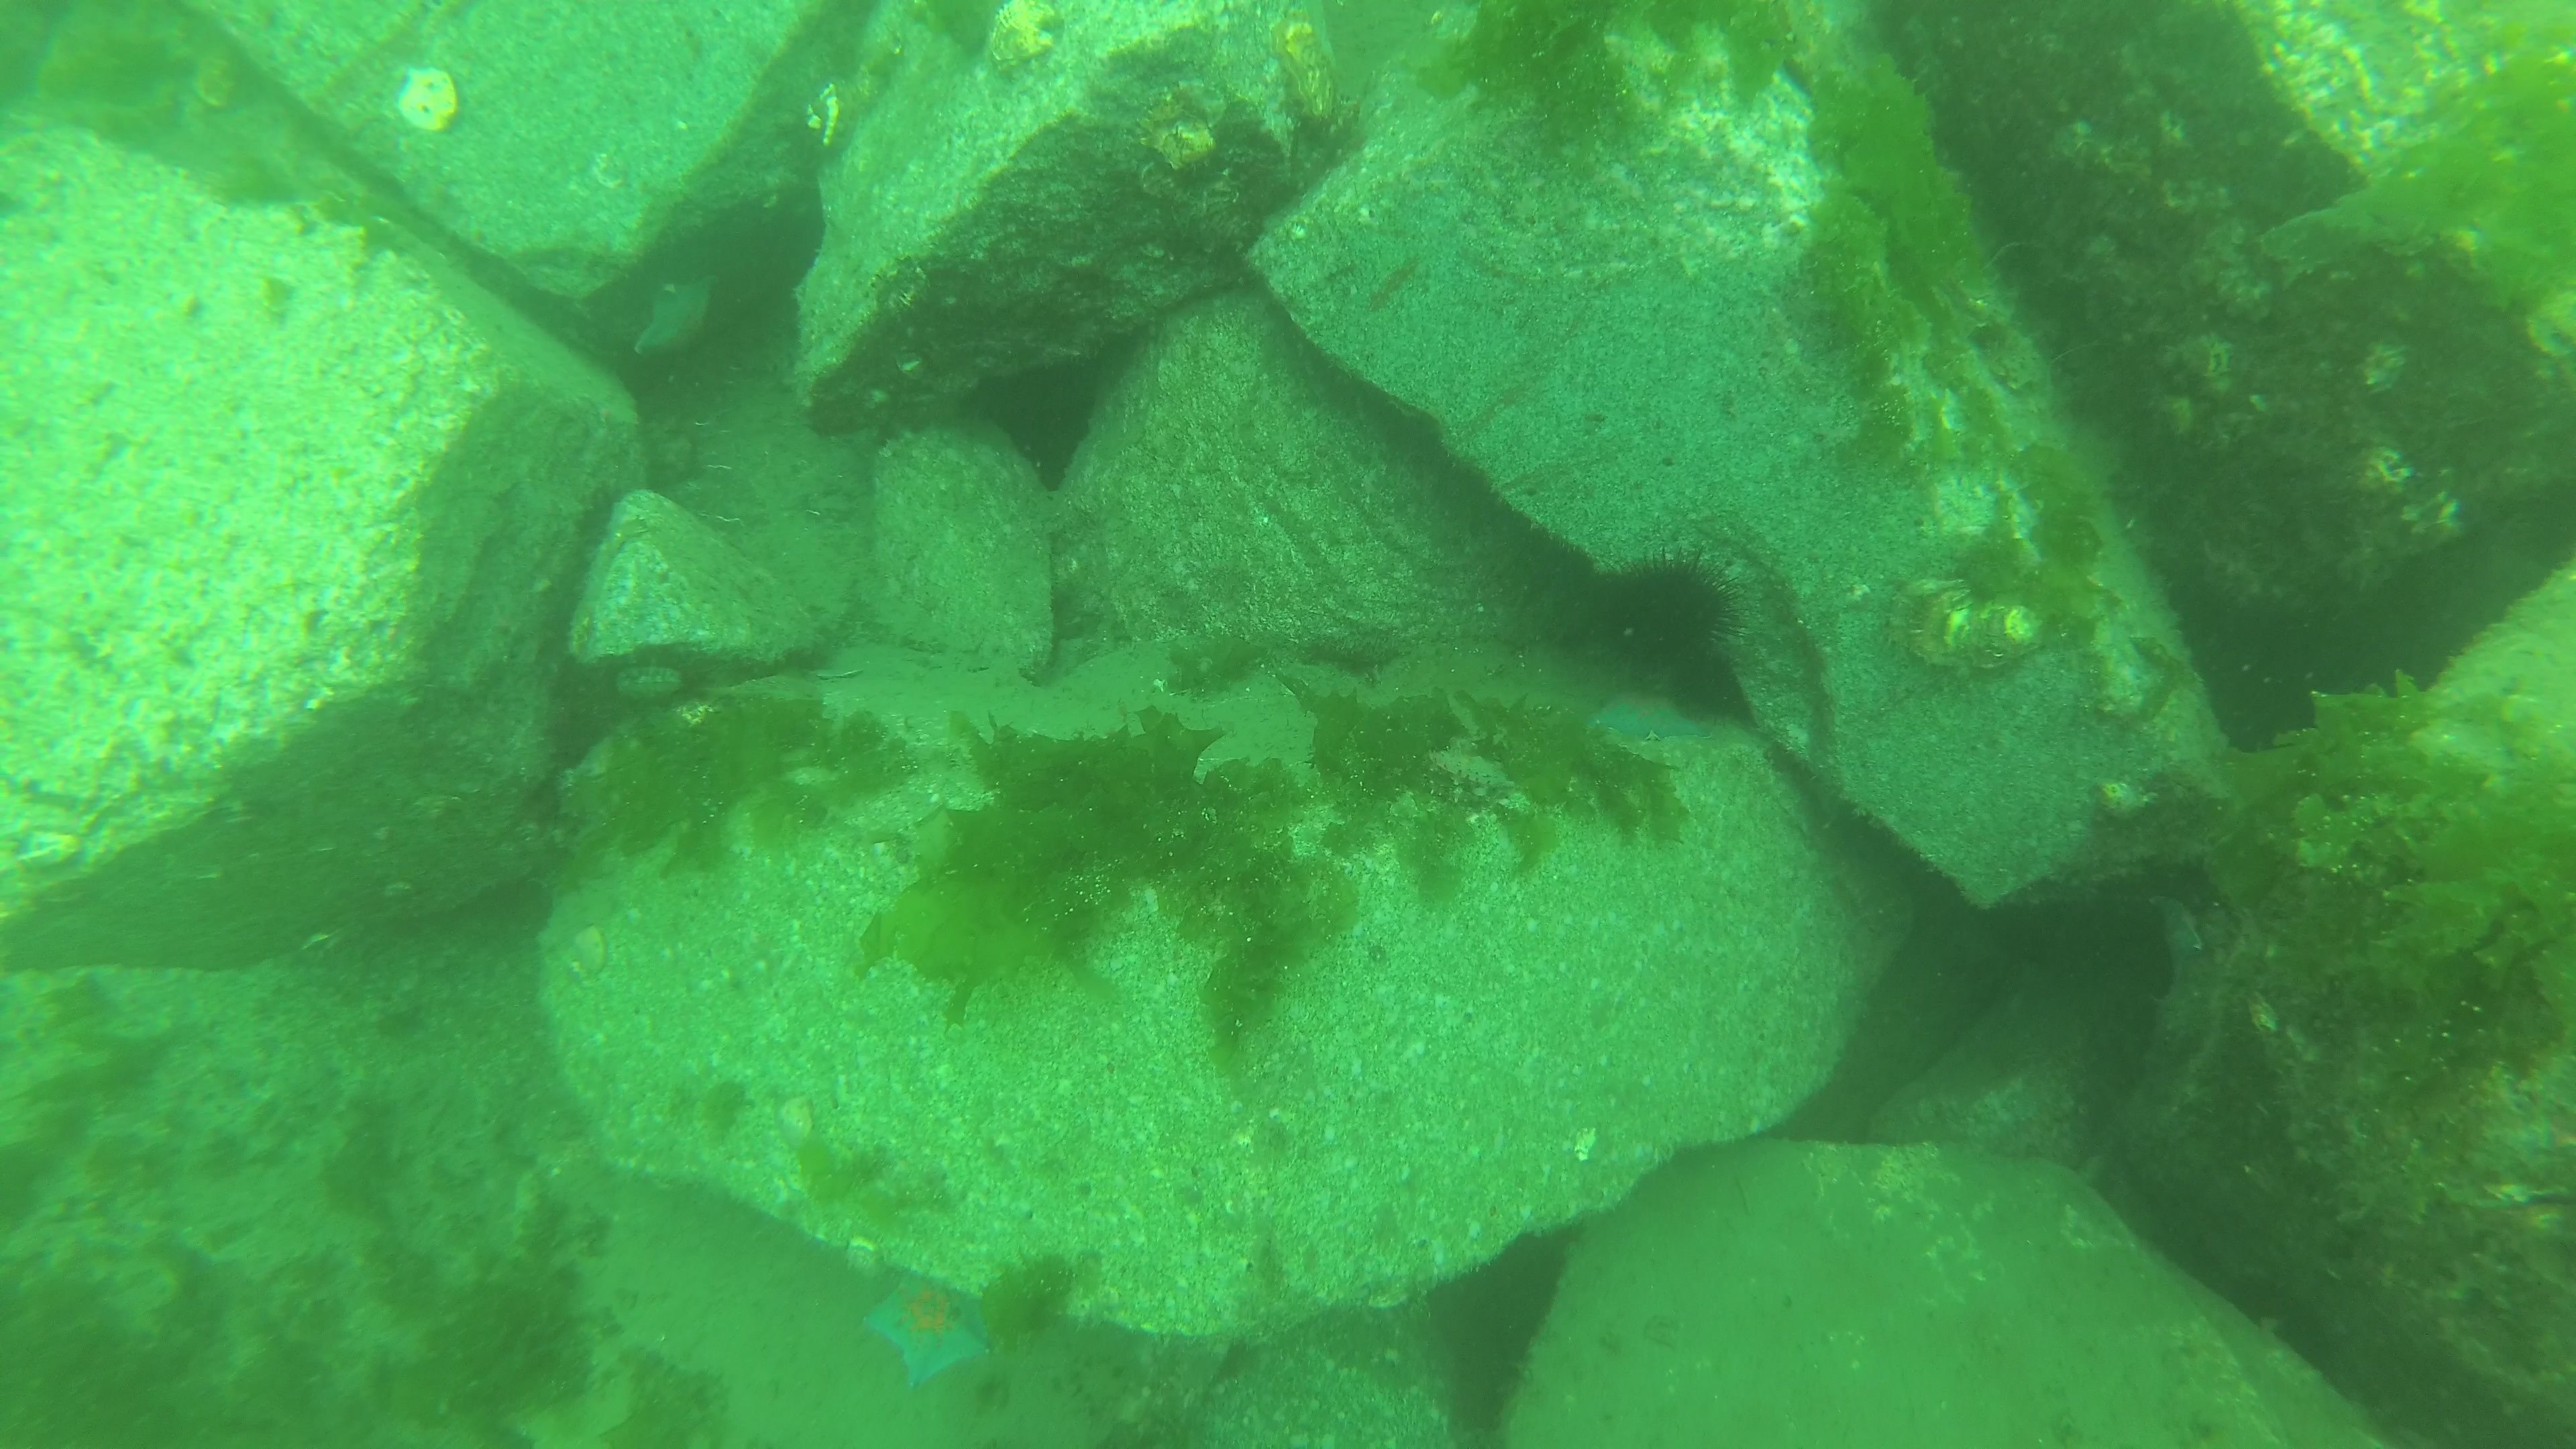echinus: (1591, 557, 1739, 683)
starfish: (855, 1269, 1000, 1387), (633, 276, 722, 368)
